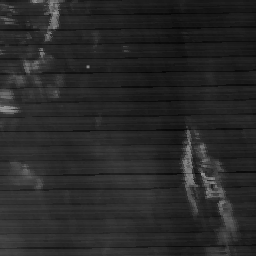Target: (85, 63, 91, 70)
